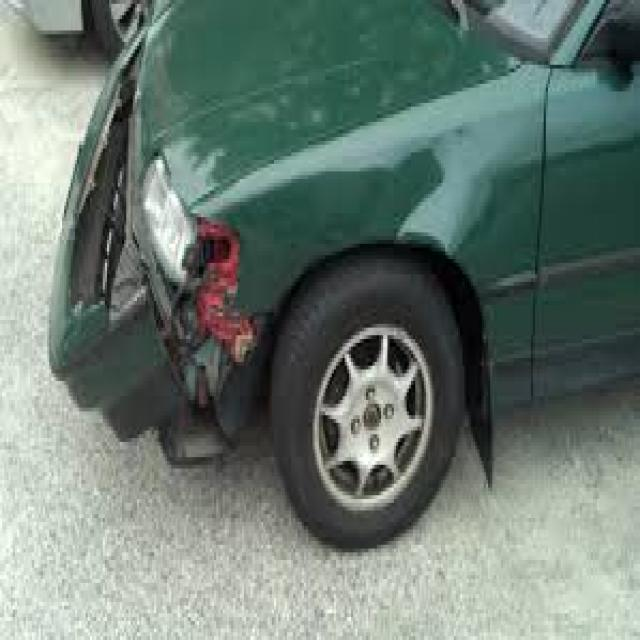minor: (40, 35, 409, 544)
